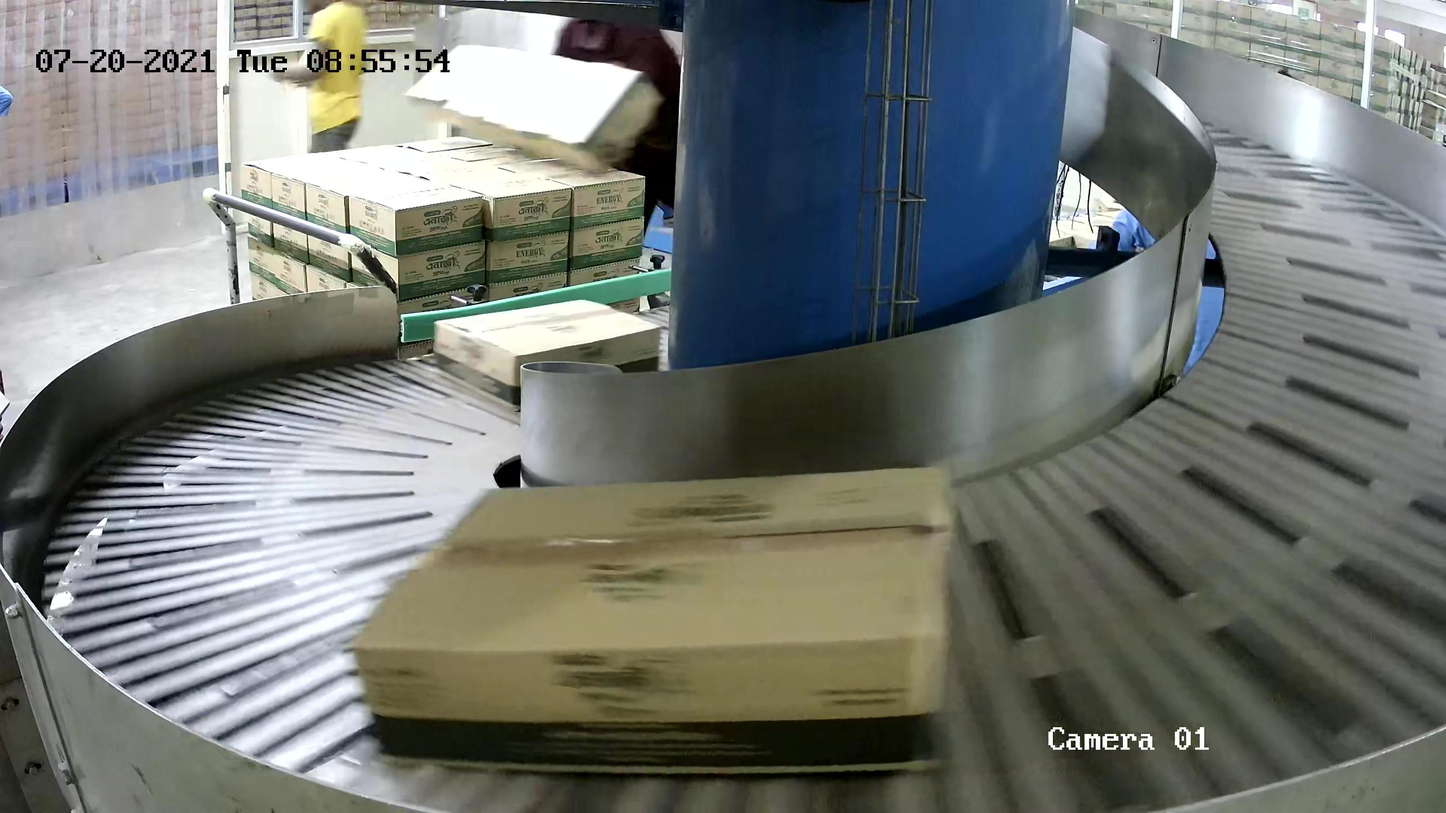Box: (344, 459, 968, 777), (433, 297, 665, 416)
